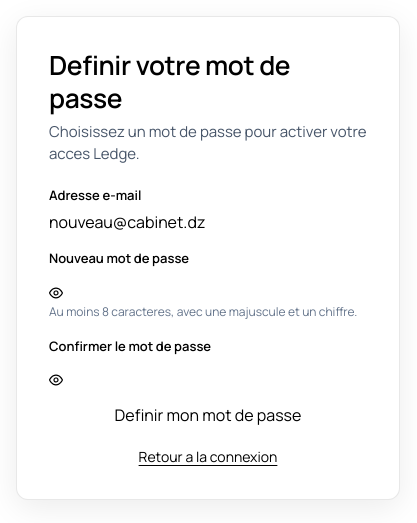
Test: DefinirMotDePassePage — lien valide › appelle resetPassword avec le token/email de la query puis affiche la confirmation
The width and height of the screenshot is (417, 523).
Type "Abcd1234!" into the password field with id "reset-password" at {"x": 208, "y": 286}, box top-left (49, 275), bottom-right (367, 297)
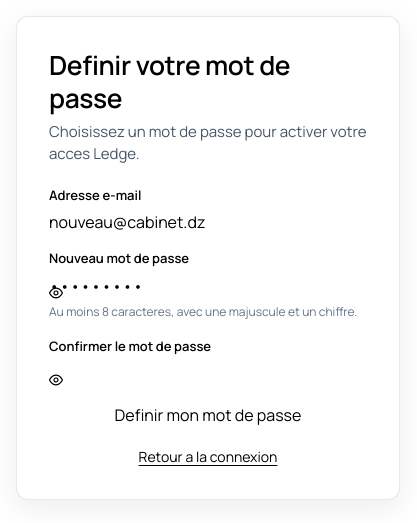
Type "Abcd1234!" into the password field with id "reset-password-confirm" at {"x": 208, "y": 373}, box top-left (49, 362), bottom-right (367, 384)
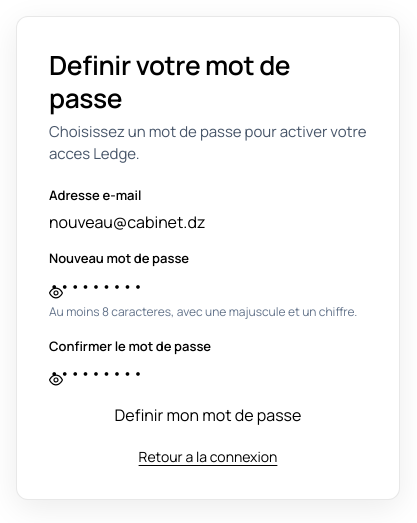
Submit the form, box top-left (49, 186), bottom-right (367, 426)
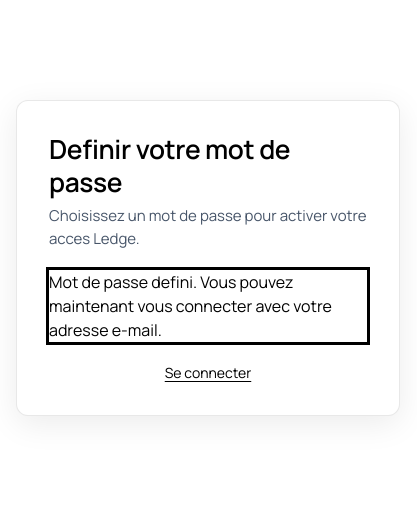
Expected: the message is shown, top-left (49, 270), bottom-right (367, 342)
Expected: the message shows "Mot de passe defini", top-left (49, 271), bottom-right (332, 341)
Expected: the link to "/login" reads "Se connecter", top-left (165, 363), bottom-right (251, 382)
